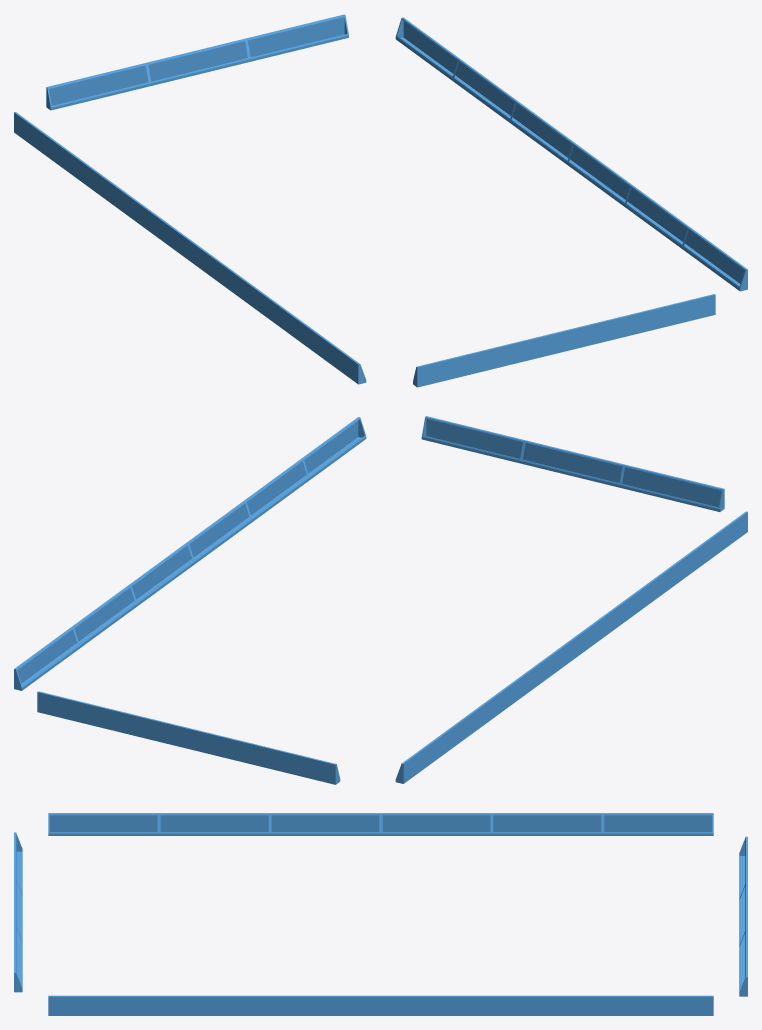
Rendered from Kobe_02.fbx.
3 views of the same model, one above another, from view 1: azimuth 30°, elevation 25°; view 2: azimuth 150°, elevation 25°; view 3: azimuth 270°, elevation 25° (orthographic). The views are drawn at different scales.
Parts seen in each view (by area): view 1: Kobe_Stadium02; view 2: Kobe_Stadium02; view 3: Kobe_Stadium02.
Boxes of the visible parts, left/top/right/bottom form: Kobe_Stadium02: left=14, top=14, right=747, bottom=387; Kobe_Stadium02: left=14, top=416, right=747, bottom=784; Kobe_Stadium02: left=14, top=813, right=747, bottom=1015.
Bounding box in the file's own units: 2841 × 140 × 4801.
